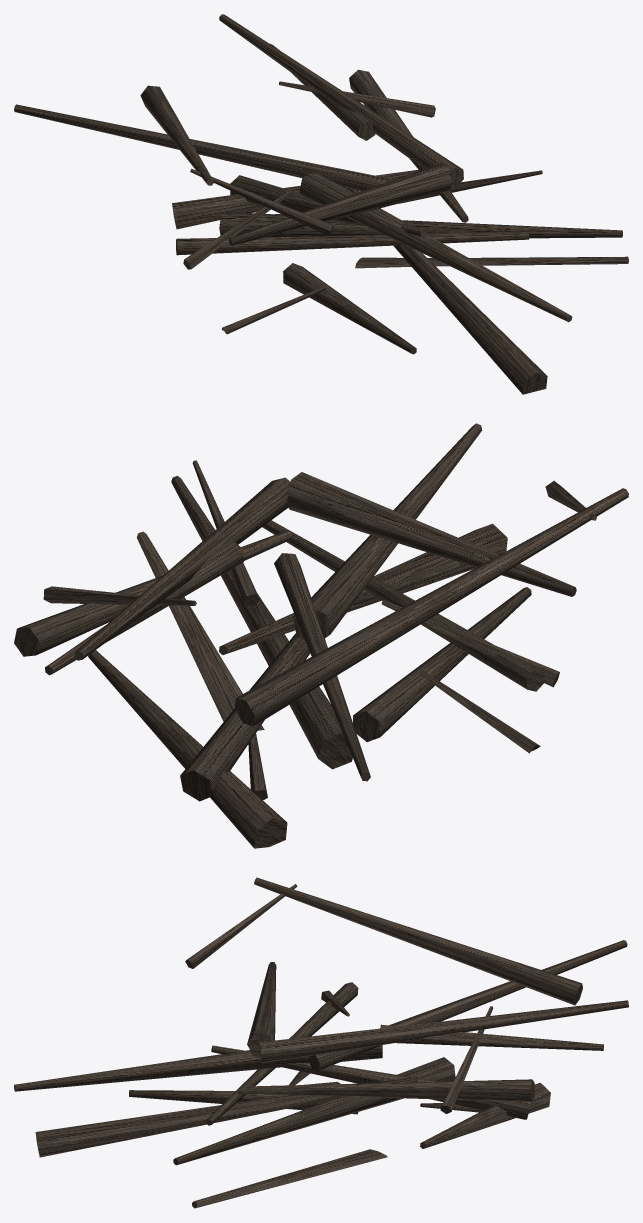
The model's file is dry-branch-pile-v01-photo.glb.
3 views of the same model, one above another, from view 1: azimuth 30°, elevation 25°; view 2: azimuth 150°, elevation 25°; view 3: azimuth 270°, elevation 25° (orthographic). The views are drawn at different scales.
Visible parts, largest first — view 1: branches; view 2: branches; view 3: branches.
Boxes of the visible parts, box(x1,y1,x2,y2) form: branches: box(14, 14, 628, 394); branches: box(14, 423, 628, 848); branches: box(14, 877, 628, 1208).
Bounding box in the file's own units: 1.74 × 0.775 × 2.46.
1 material, 1 textured.
